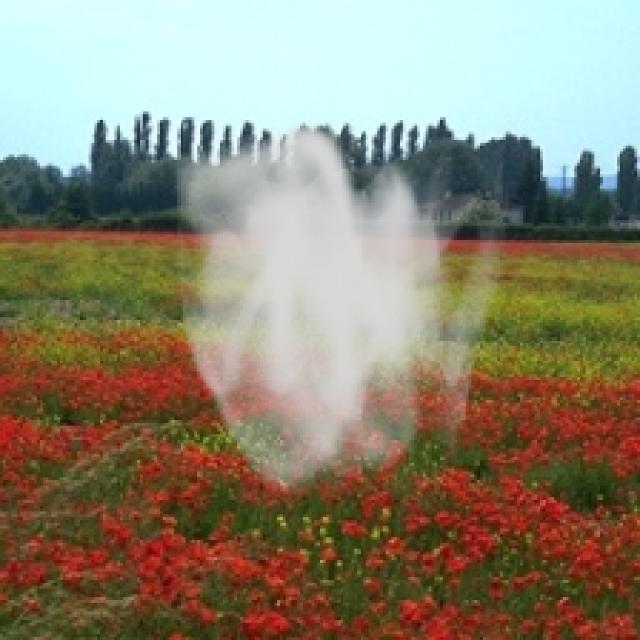smoke: (166, 120, 511, 503)
